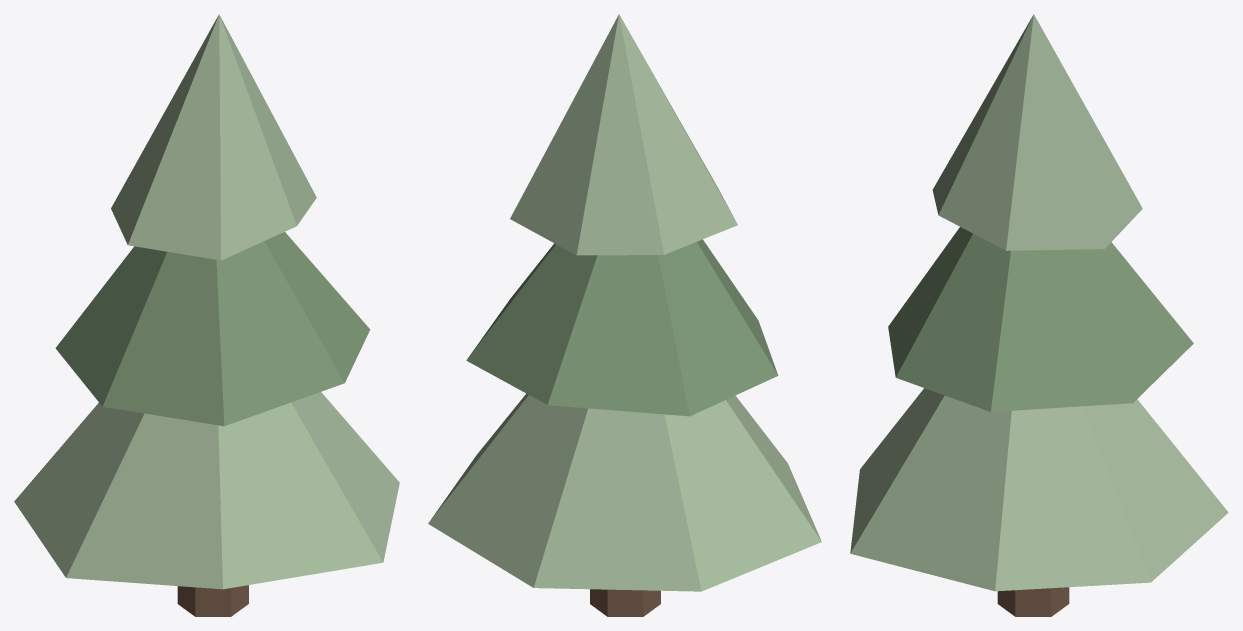
The model's file is sb_pine_tree.glb.
3 views of the same model, side by side, from view 1: azimuth 30°, elevation 25°; view 2: azimuth 150°, elevation 25°; view 3: azimuth 270°, elevation 25° (orthographic).
Visible parts, largest first — view 1: pine_tree; view 2: pine_tree; view 3: pine_tree.
Part boxes in pixels (<box>): pine_tree: <box>14,14,399,616</box>; pine_tree: <box>428,14,821,616</box>; pine_tree: <box>850,14,1228,616</box>.
Bounding box in the file's own units: 0.9909 × 1.64 × 0.9493.
